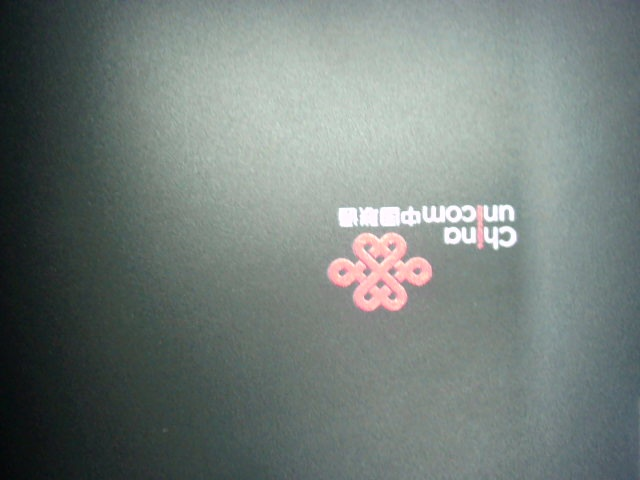AC_ChinaUnicom: (311, 183, 522, 319)
